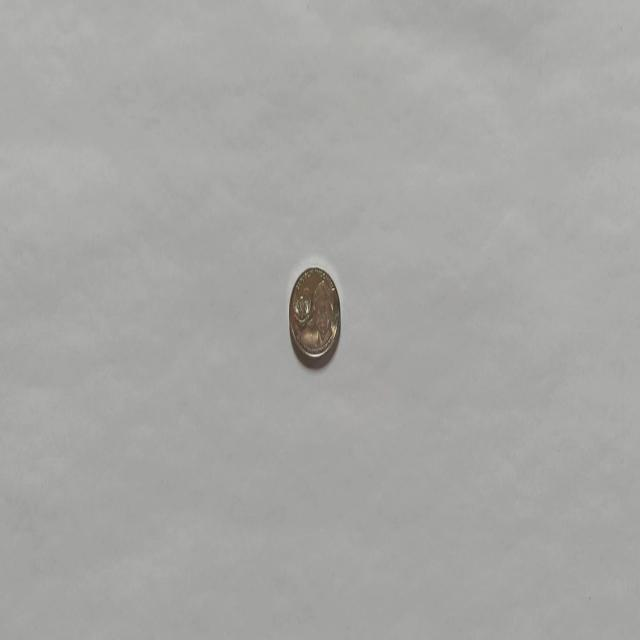dua ratus rupiah: (288, 265, 340, 360)
